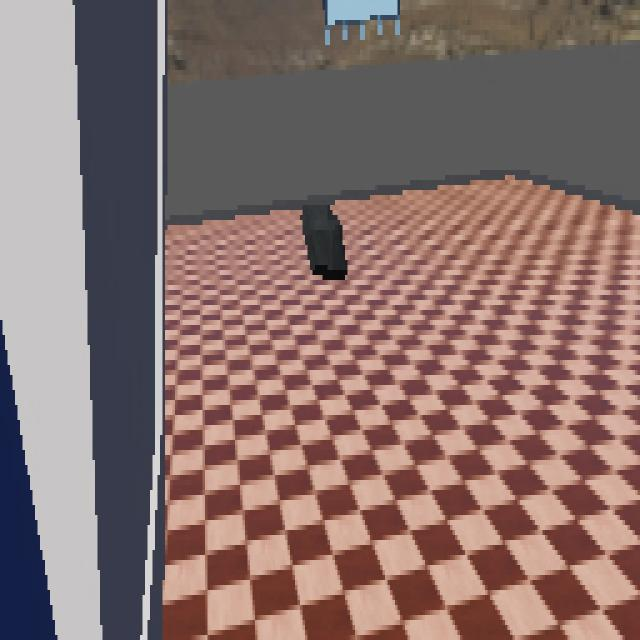rock: (302, 196, 348, 282)
